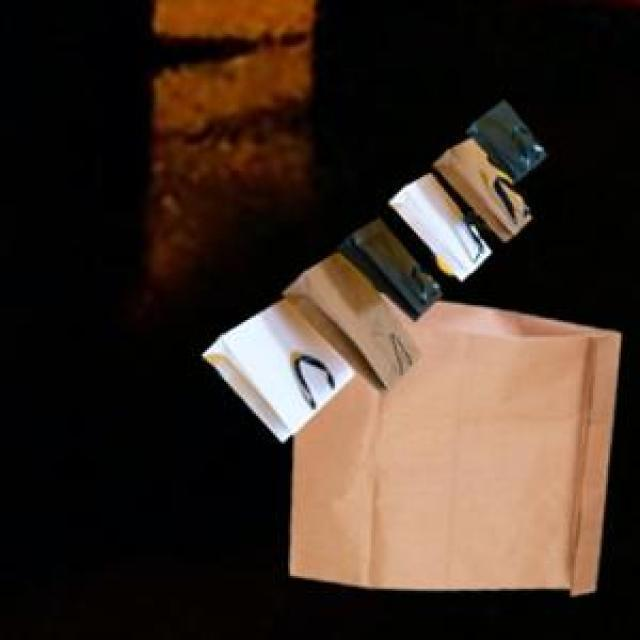paper: (198, 96, 542, 437), (286, 290, 617, 591)
